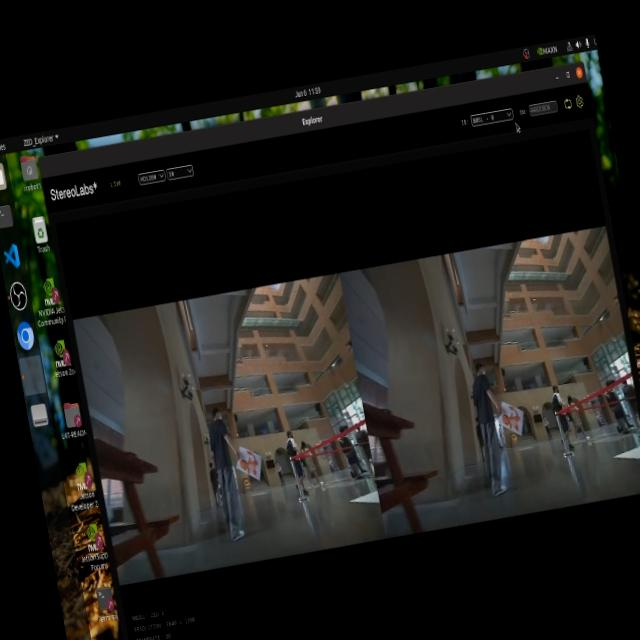red: (234, 444, 270, 483), (500, 403, 528, 441)
